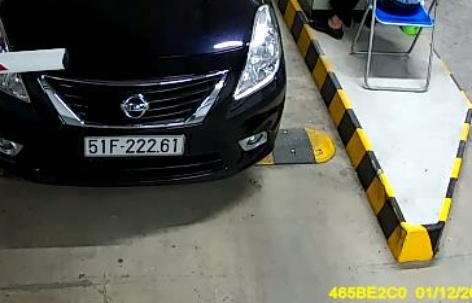plate: (82, 130, 187, 160)
